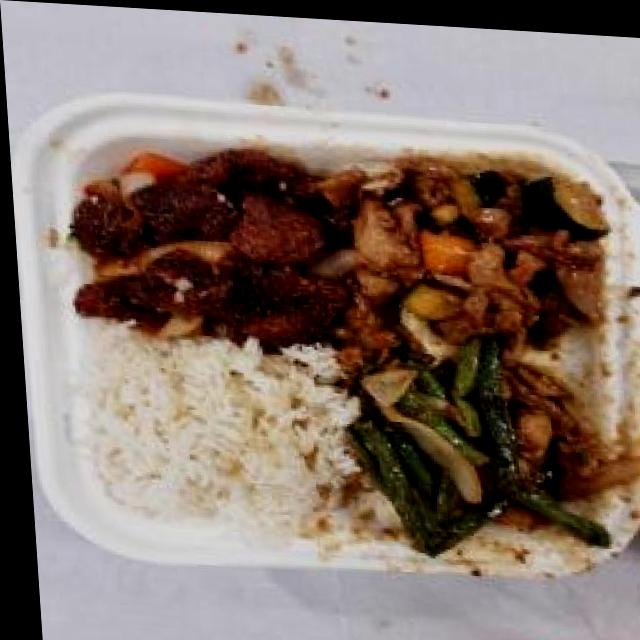Beijing Beef: (60, 127, 354, 354)
Kung Pao Chicken: (329, 138, 613, 356)
String Bean Chicken Breast: (342, 335, 608, 562)
White Steamed Rice: (80, 338, 347, 538)
